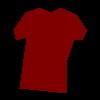abbigliamento_uomo: (13, 7, 87, 93)
